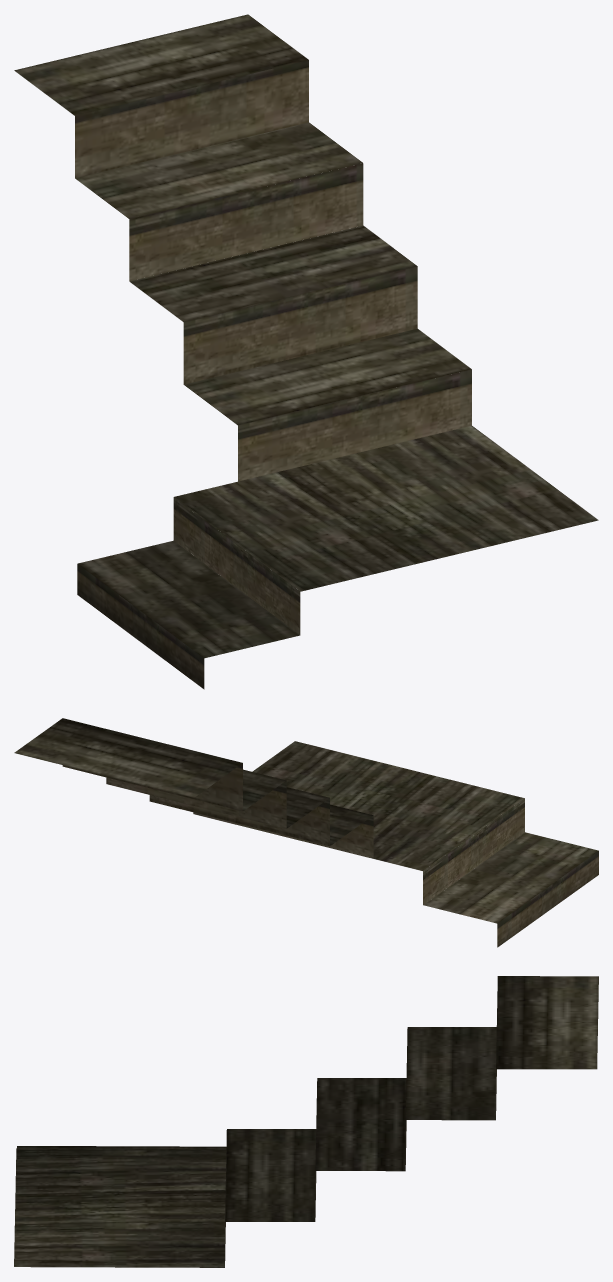
The model's file is OC_STAIRS_V01.glb.
3 renders of one model, top to bottom at view 1: azimuth 30°, elevation 25°; view 2: azimuth 150°, elevation 25°; view 3: azimuth 270°, elevation 25°, orthographic. The views are drawn at different scales.
Parts seen in each view (by area): view 1: Mesh; view 2: Mesh; view 3: Mesh.
Part boxes in pixels (x1=…): Mesh: x1=14, y1=14, x2=598, y2=689; Mesh: x1=14, y1=718, x2=598, y2=947; Mesh: x1=14, y1=976, x2=598, y2=1267.
Bounding box in the file's own units: 3.34 × 2.56 × 5.19.
Materials: 2 (2 with a texture image).
